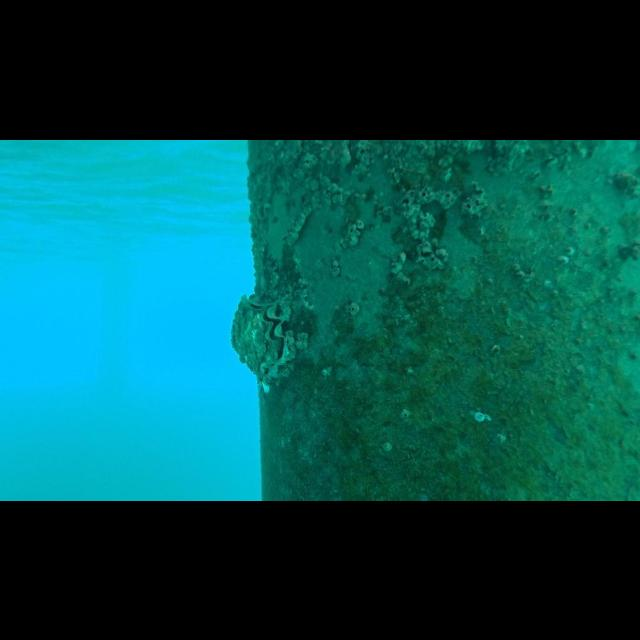Oyster-Open: (230, 292, 300, 384)
